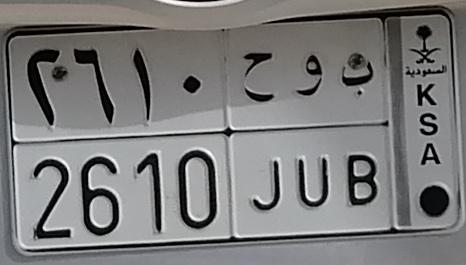0: (176, 74, 220, 231)
1: (131, 45, 166, 236)
2: (25, 46, 72, 241)
6: (73, 46, 122, 237)
B: (338, 60, 380, 209)
J: (241, 51, 284, 213)
U: (294, 53, 332, 212)
